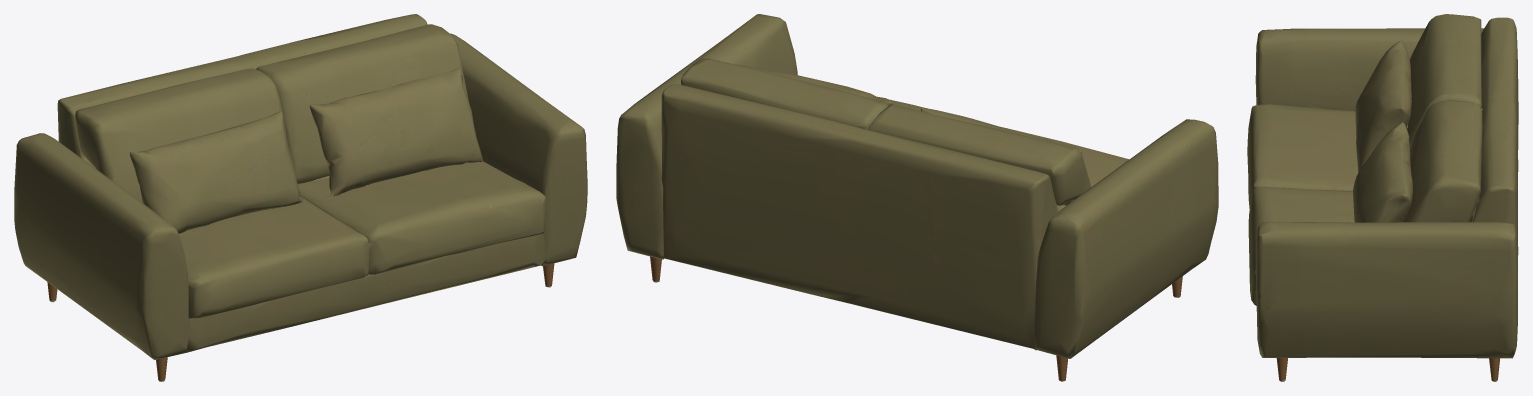
The model's file is cover-vissle-zoltozielony.glb.
3 renders of one model, left to right at view 1: azimuth 30°, elevation 25°; view 2: azimuth 150°, elevation 25°; view 3: azimuth 270°, elevation 25°, orthographic. The views are drawn at different scales.
Visible parts, largest first — view 1: ASY_ART_20594364_S01_NV01; view 2: ASY_ART_20594364_S01_NV01; view 3: ASY_ART_20594364_S01_NV01.
Part boxes in pixels (<box>): ASY_ART_20594364_S01_NV01: <box>14,14,587,381</box>; ASY_ART_20594364_S01_NV01: <box>616,14,1218,381</box>; ASY_ART_20594364_S01_NV01: <box>1247,14,1518,381</box>.
Bounding box in the file's own units: 1.76 × 0.7499 × 0.95.
Materials: 2 (2 with a texture image).
